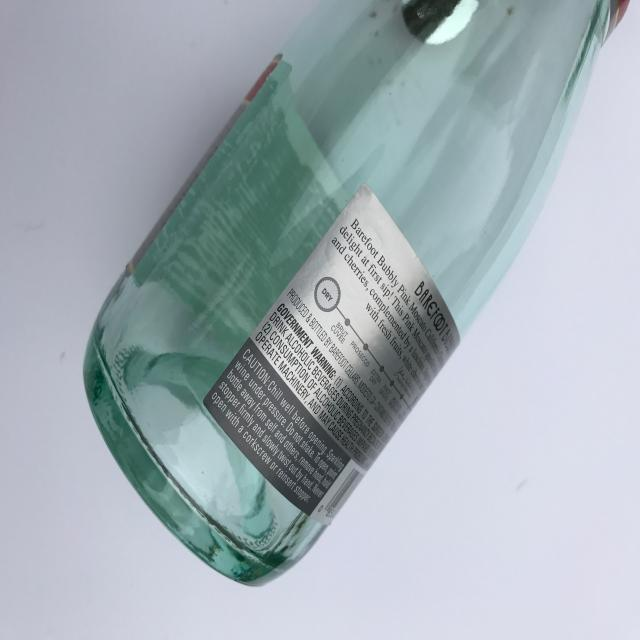glass: (77, 1, 640, 589)
